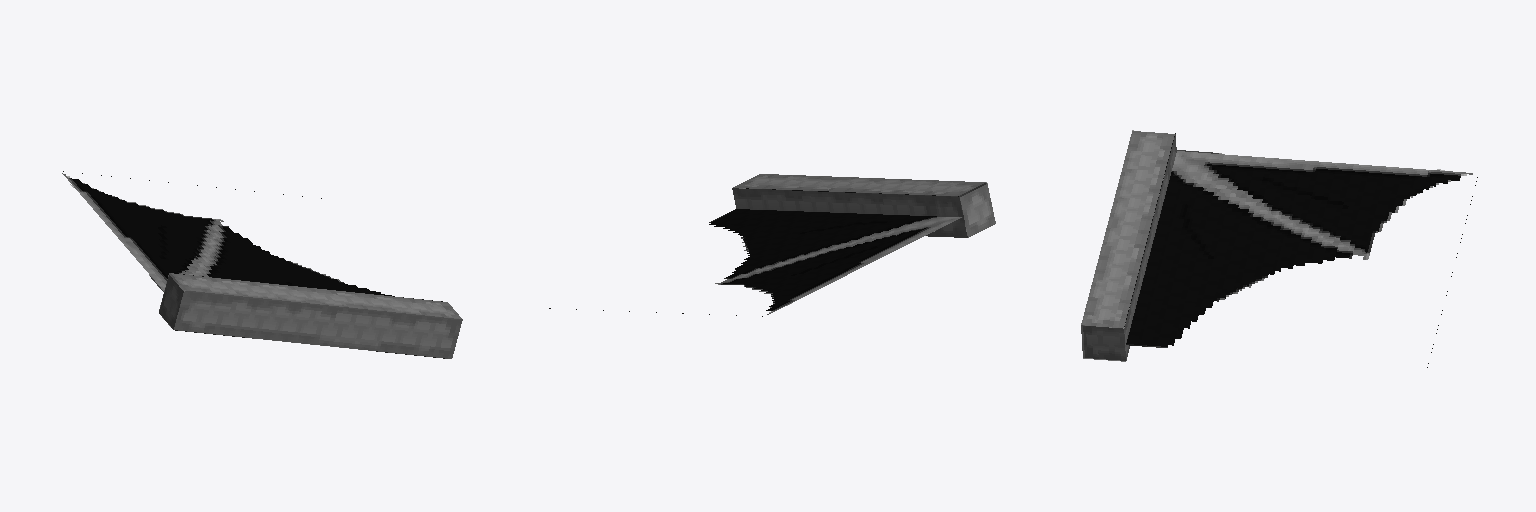
The picture shows the model from 3 angles: view 1: azimuth 30°, elevation 25°; view 2: azimuth 150°, elevation 25°; view 3: azimuth 270°, elevation 25°; orthographic projection.
Parts seen in each view (by area): view 1: Enderdragon_Malla; view 2: Enderdragon_Malla; view 3: Enderdragon_Malla.
Part boxes in pixels (bbox=[...]): Enderdragon_Malla: bbox=[62, 171, 462, 358]; Enderdragon_Malla: bbox=[549, 174, 995, 316]; Enderdragon_Malla: bbox=[1081, 130, 1477, 367].
Size of the model in its own units: 10.4 by 3.53 by 11.54.
Materials: 1 (1 with a texture image).